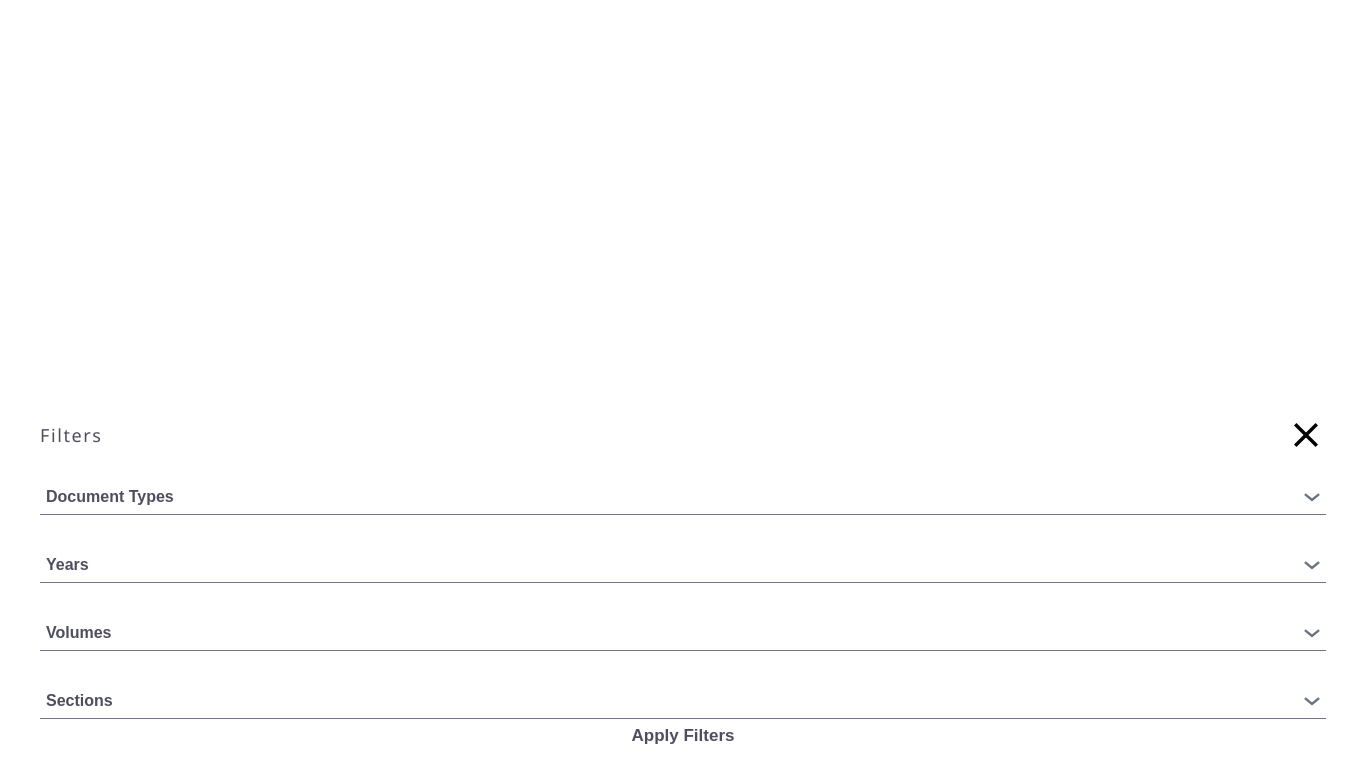
Test: SearchResultsMobileModal › Filter sections › collapses section when its button is clicked again
This screenshot has width=1366, height=760.
Click the button "Years" at (67,564), box left=40, top=555, right=1326, bottom=583
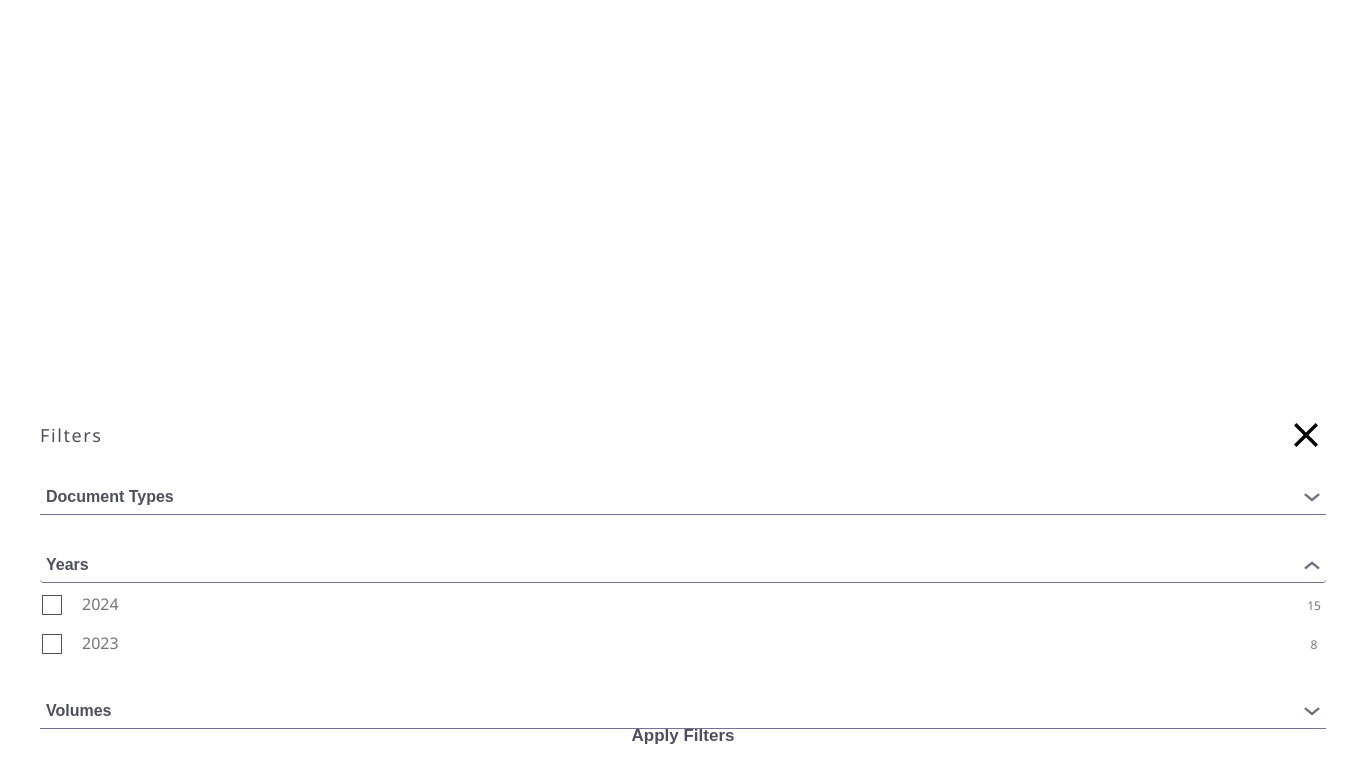
Click the button "Years" at (67,564), box left=40, top=555, right=1326, bottom=583
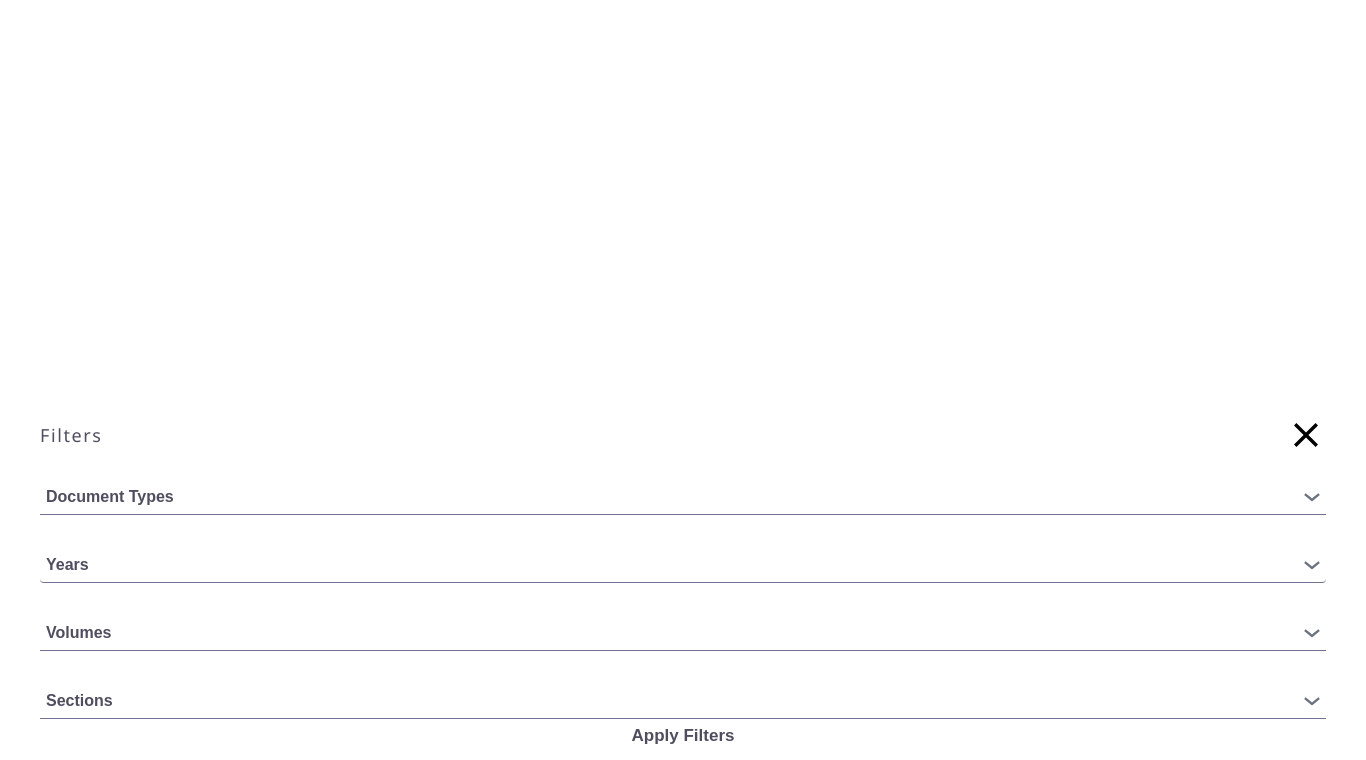
Check: the button "Years" is collapsed, box left=40, top=555, right=1326, bottom=583
